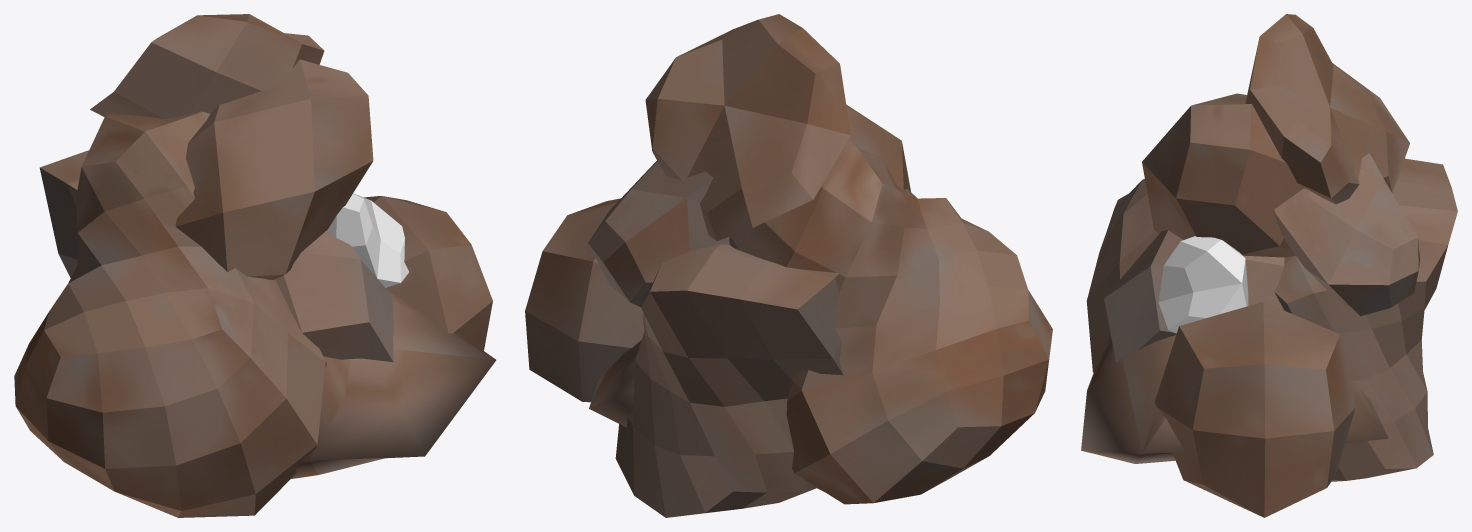
Rendered from rubble_1.fbx.
3 views of the same model, side by side, from view 1: azimuth 30°, elevation 25°; view 2: azimuth 150°, elevation 25°; view 3: azimuth 270°, elevation 25° (orthographic). The views are drawn at different scales.
Visible parts, largest first — view 1: rock.009, rock.003, rock.008, rock.001, rock.006, rock.004, rock, rock.005; view 2: rock.009, rock.005, rock.001, rock.004, rock.002, rock.008, rock.003; view 3: rock.004, rock.005, rock.003, rock.001, rock.002, rock.008, rock.006, rock, rock.009.
Part boxes in pixels (bbox=[...]): rock.009: bbox=[14, 111, 326, 517]; rock.003: bbox=[175, 59, 373, 279]; rock.008: bbox=[291, 291, 496, 478]; rock.001: bbox=[90, 14, 324, 118]; rock.006: bbox=[275, 230, 393, 361]; rock.004: bbox=[364, 196, 492, 350]; rock: bbox=[327, 193, 408, 287]; rock.005: bbox=[39, 150, 88, 277]; rock.009: bbox=[729, 140, 1052, 504]; rock.005: bbox=[615, 244, 843, 517]; rock.001: bbox=[645, 14, 850, 241]; rock.004: bbox=[525, 198, 644, 402]; rock.002: bbox=[588, 161, 729, 307]; rock.008: bbox=[589, 340, 641, 427]; rock.003: bbox=[846, 104, 910, 191]; rock.004: bbox=[1154, 302, 1355, 517]; rock.005: bbox=[1274, 158, 1457, 481]; rock.003: bbox=[1142, 93, 1303, 257]; rock.001: bbox=[1245, 14, 1409, 204]; rock.002: bbox=[1274, 153, 1419, 316]; rock.008: bbox=[1081, 335, 1388, 463]; rock.006: bbox=[1104, 230, 1284, 362]; rock: bbox=[1158, 236, 1248, 333]; rock.009: bbox=[1086, 179, 1159, 372].
Size of the model in its own units: 207 by 194 by 152.
